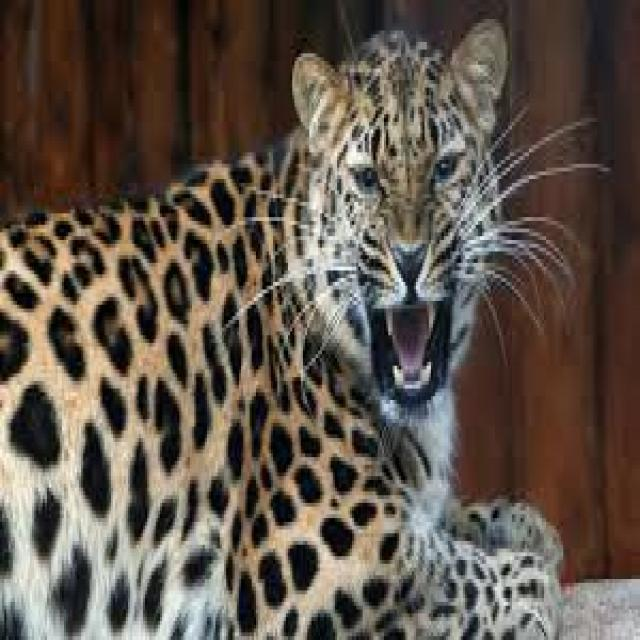Leopard: (0, 23, 511, 640)
